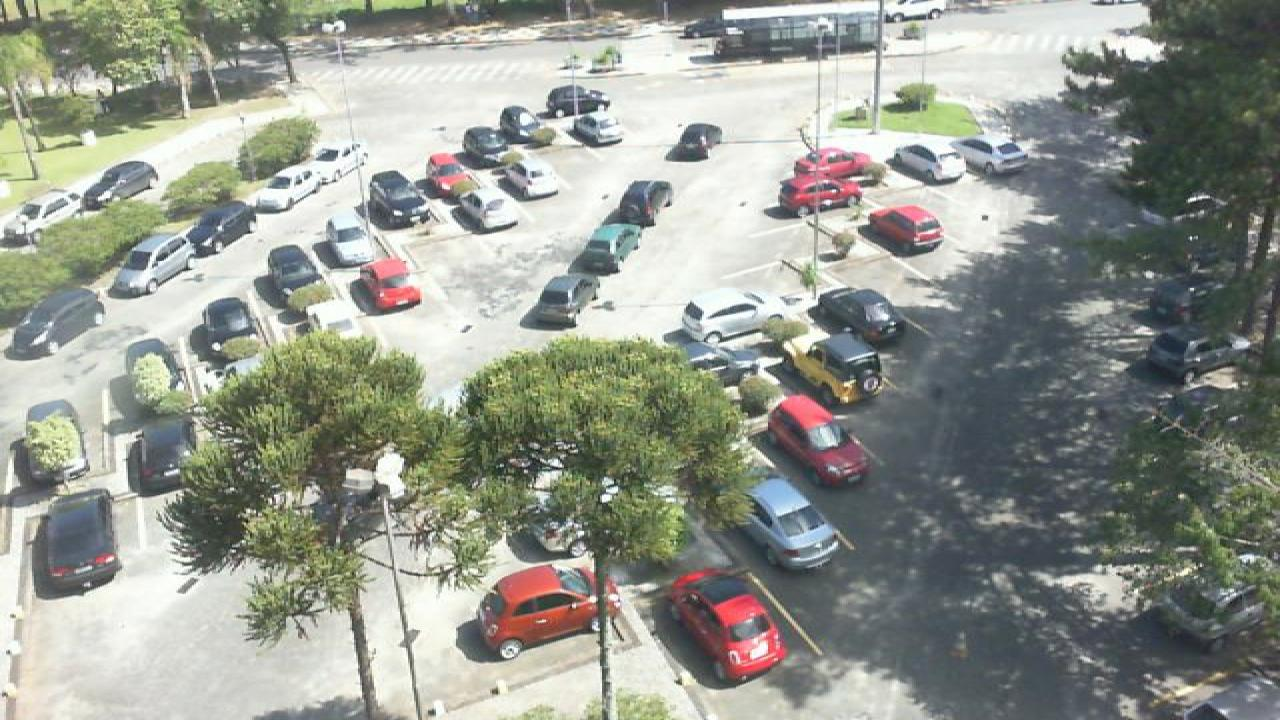Car: (472, 558, 622, 663), (670, 567, 790, 689), (764, 392, 872, 487), (736, 475, 840, 570), (34, 490, 126, 590), (1156, 579, 1274, 648), (782, 332, 884, 407), (680, 288, 810, 346), (8, 286, 108, 358), (1138, 326, 1250, 386), (106, 231, 202, 297), (18, 399, 88, 484), (130, 420, 204, 497), (814, 286, 902, 350), (118, 336, 182, 417), (674, 338, 780, 384), (1144, 273, 1236, 324), (192, 297, 264, 362), (358, 168, 428, 230), (524, 274, 602, 329), (258, 245, 328, 306), (860, 204, 946, 252), (184, 200, 254, 255), (2, 189, 82, 237), (352, 258, 422, 312), (570, 222, 642, 274), (80, 160, 158, 207), (772, 178, 862, 218), (254, 165, 330, 212), (890, 140, 966, 184), (446, 186, 518, 232), (790, 145, 872, 182), (952, 135, 1030, 173), (298, 142, 368, 184), (322, 212, 376, 266), (492, 156, 558, 200), (612, 179, 672, 227), (420, 152, 476, 201), (302, 296, 362, 336), (666, 121, 724, 161), (546, 83, 612, 118), (496, 105, 552, 144), (460, 124, 510, 163), (568, 109, 622, 145)
